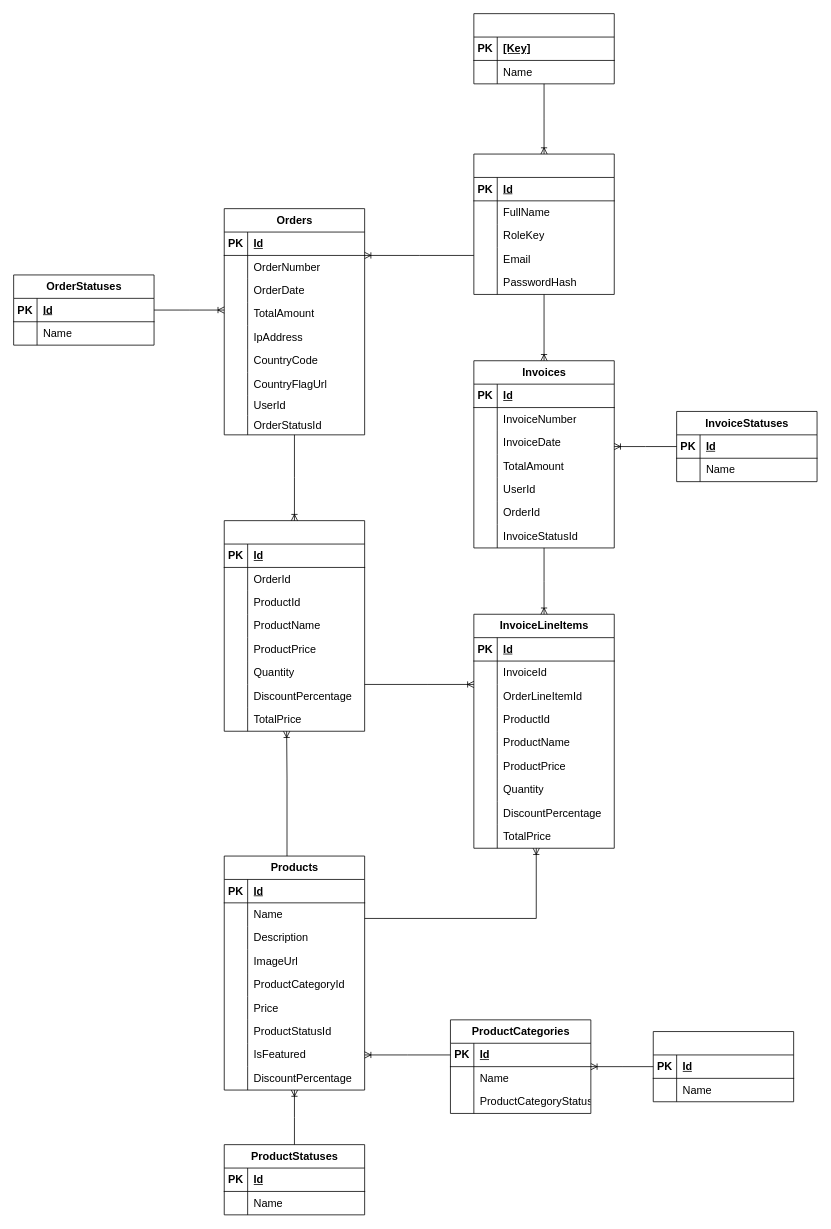
Some shapes in this 831 by 1229 pixel diagram are drawn without their labels. Each missing label, with the box of its shape:
OrderLineItems: (223, 520, 365, 731)
ProductCategoryStatuses: (652, 1031, 794, 1102)
Roles: (473, 13, 614, 84)
Users: (473, 153, 614, 294)
